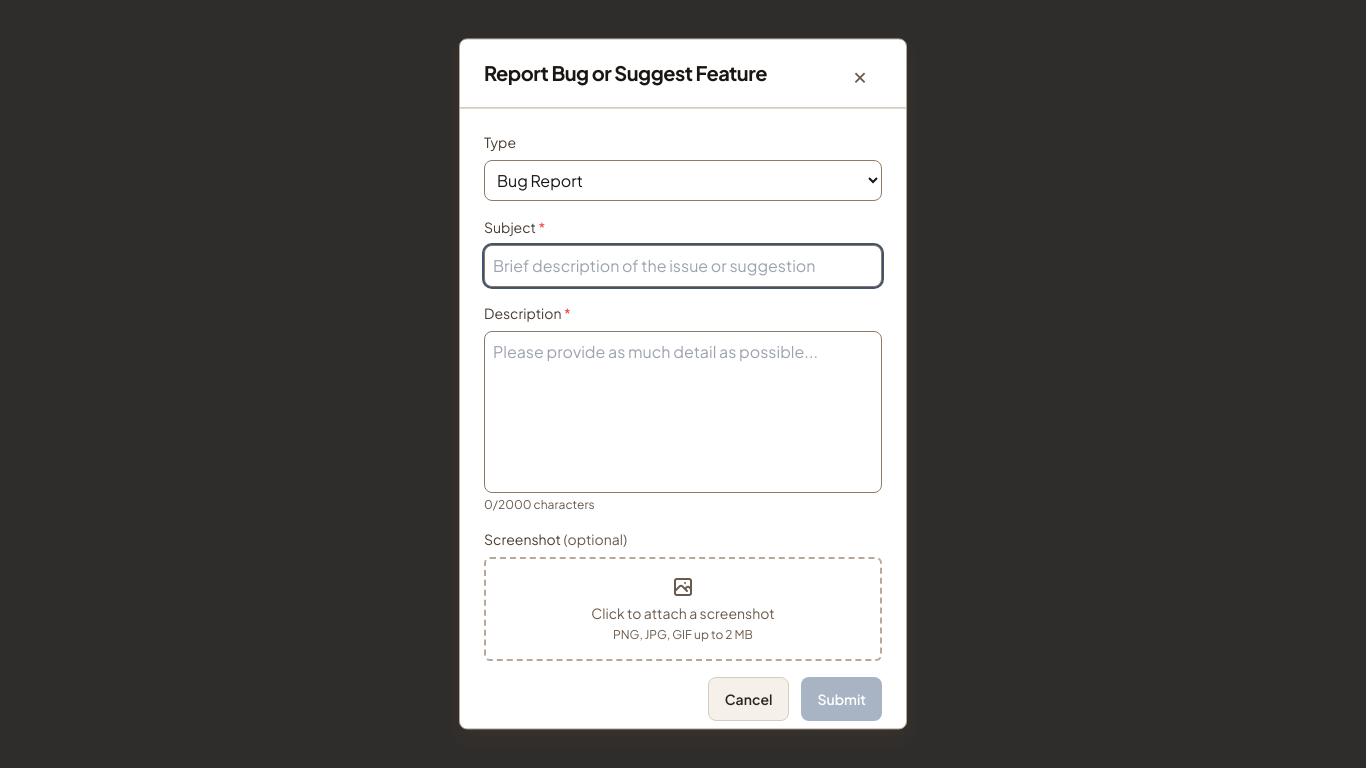
Test case: FeedbackForm — Phase 88.6-31 (D-21 residuals) › SPEC R1 — a failed submit renders the RATIFIED register line in the ASSERTIVE errorId region, never the backend string, and no toast replaces it
Type "A subject" into the field with placeholder "Brief description of the issue or suggestion" at (683, 266), box [484,245,882,287]
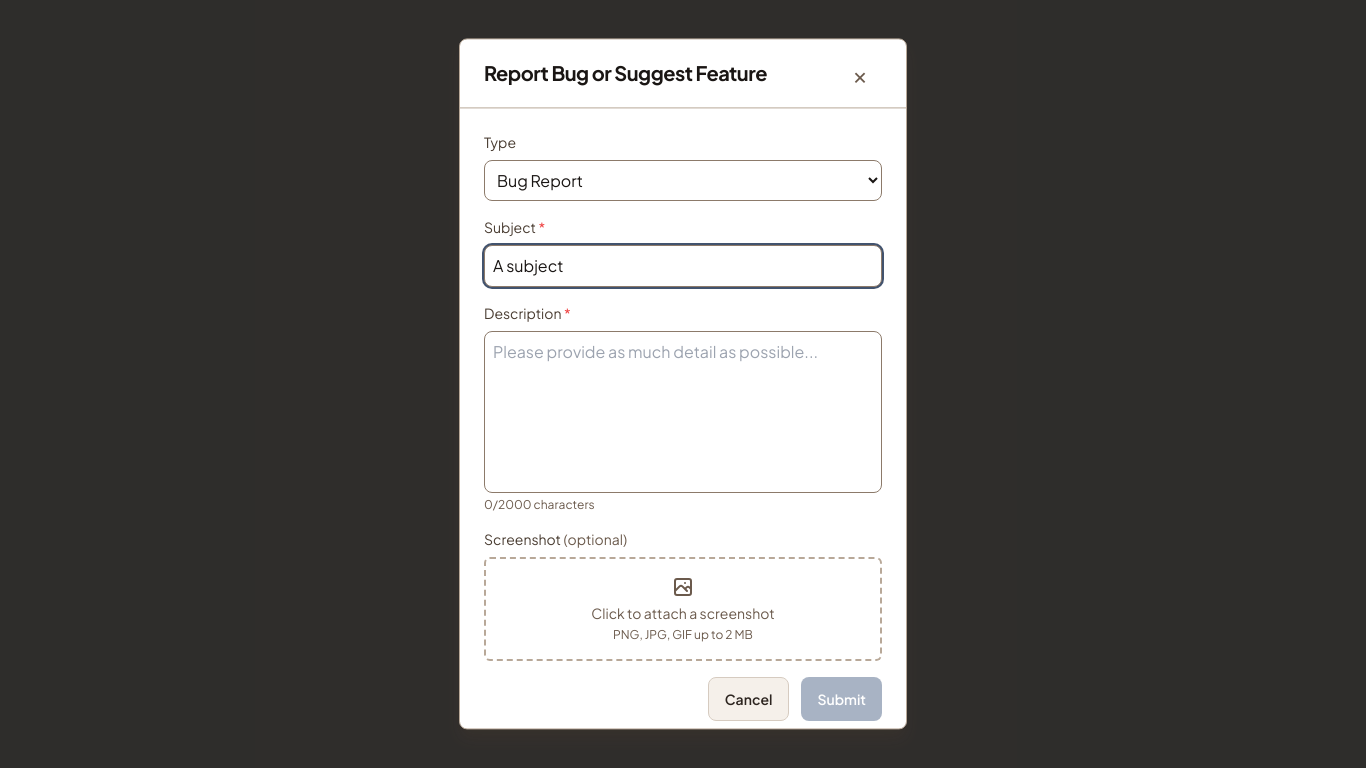
Type "A description." into the text box with placeholder "Please provide as much detail as possible..." at (683, 412), box [484,331,882,493]
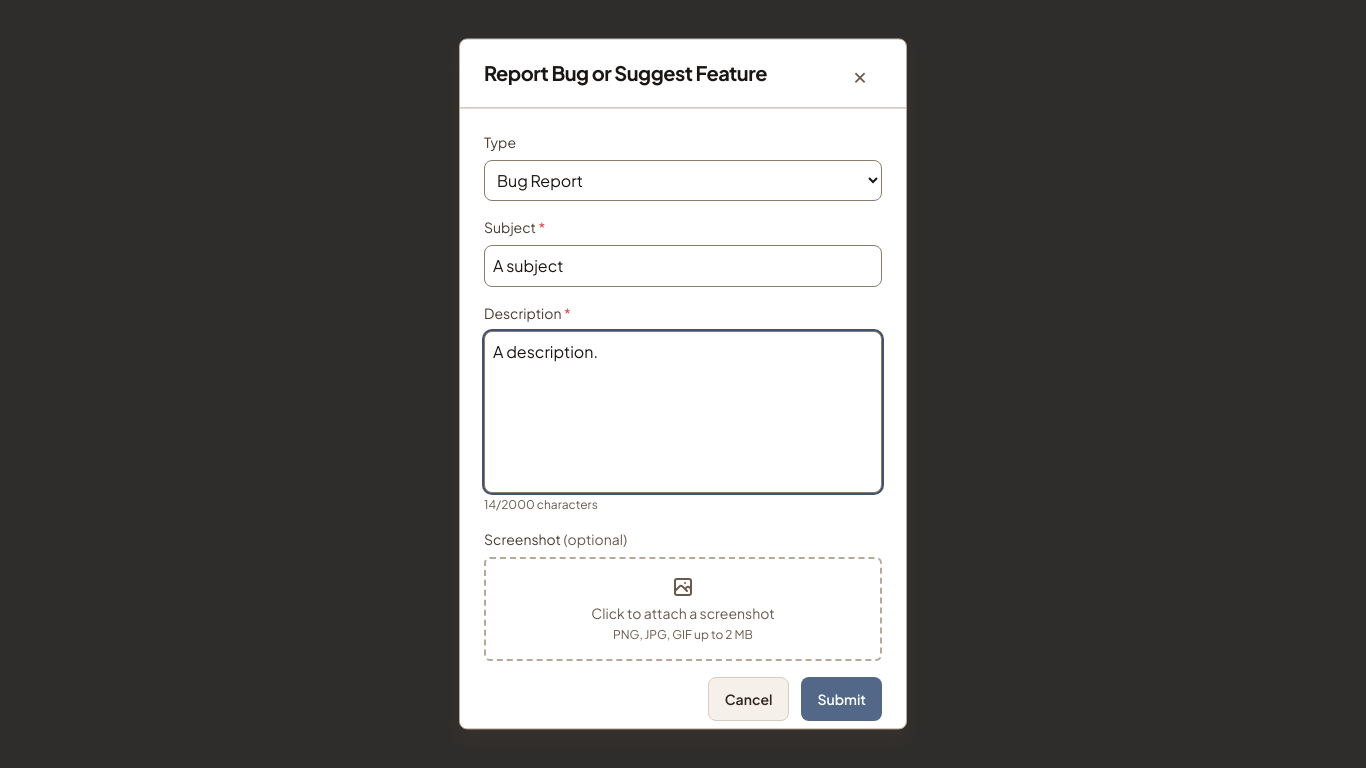
Click the button "Submit" at (842, 699), box [801,677,882,721]
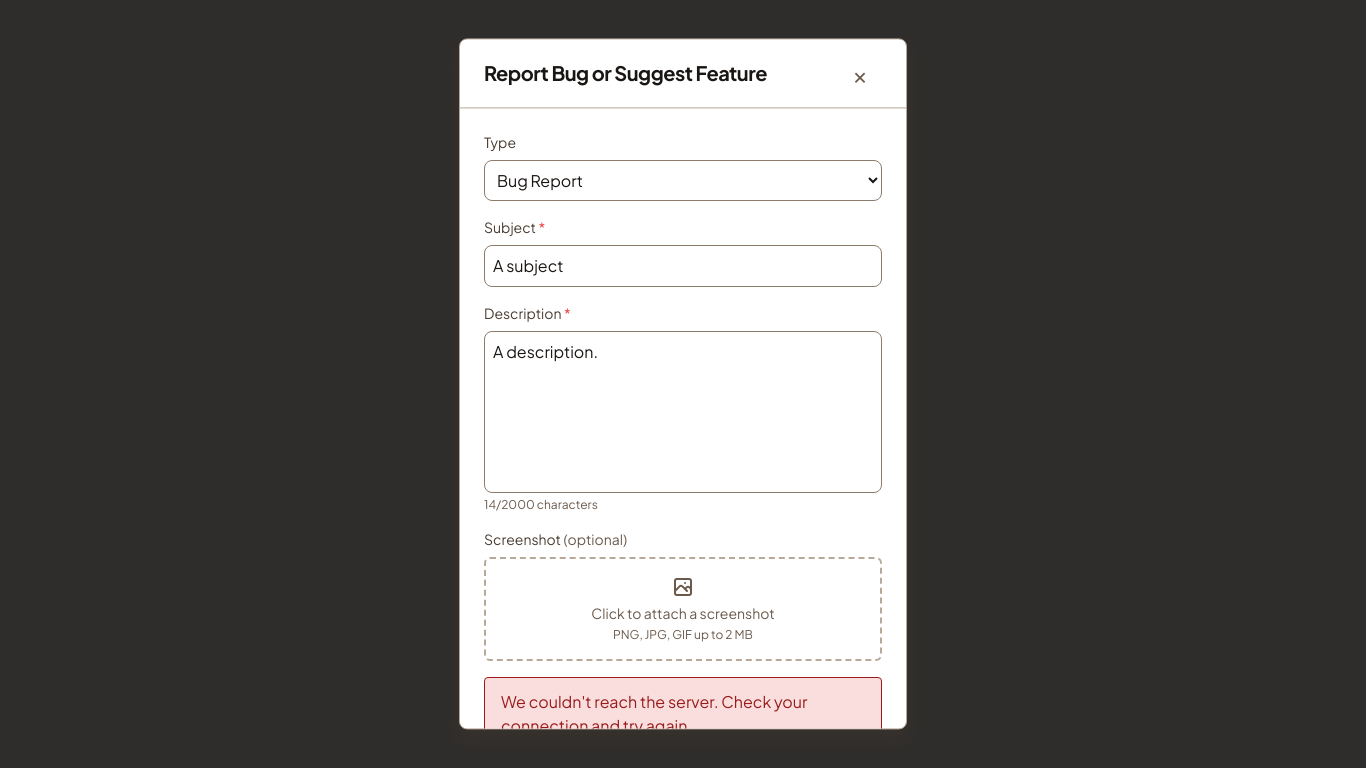
Expected: the message "We couldn't reach the server. Check your connection and try again." does not show "Failed to fetch", [484,677,882,729]
Expected: the message "We couldn't reach the server. Check your connection and try again." is shown, [484,677,882,729]
